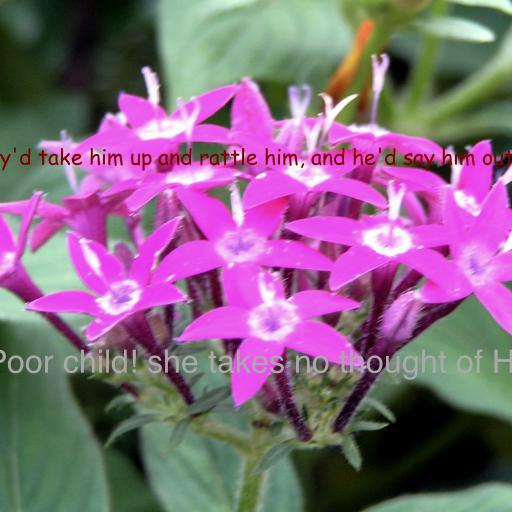Apple Chancery: (0, 349, 512, 380)
Comic Sans MS: (0, 147, 512, 171)
